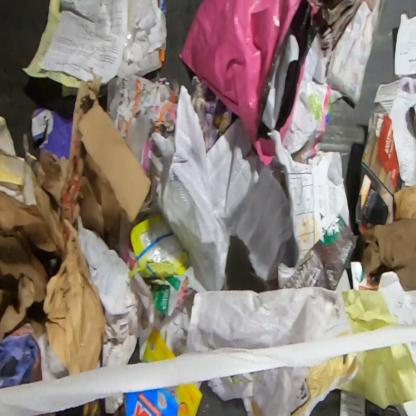cardboard: (35, 76, 151, 257), (281, 213, 359, 291), (354, 104, 400, 235), (0, 230, 50, 341), (0, 115, 38, 206), (124, 386, 181, 415), (140, 326, 178, 362), (176, 382, 204, 415)
soft_plastic: (178, 0, 320, 167), (127, 213, 188, 279)
